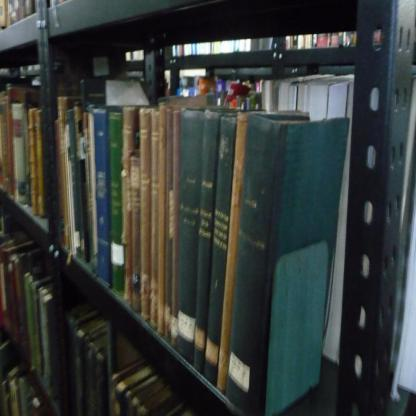book: (53, 92, 352, 416), (177, 70, 356, 372), (250, 102, 318, 416), (0, 210, 57, 398), (0, 75, 45, 223), (110, 351, 212, 415), (64, 298, 109, 416), (0, 341, 49, 416), (286, 30, 358, 48), (170, 40, 272, 52), (0, 0, 35, 27)
